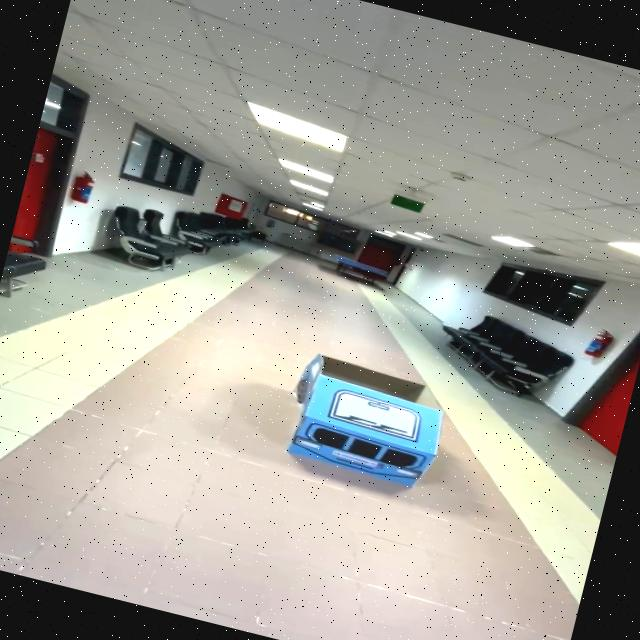blue_car: (203, 325, 495, 520)
